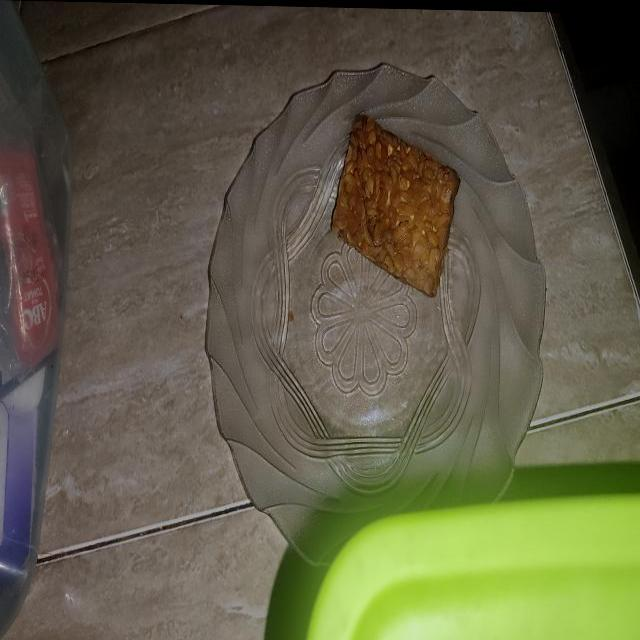tempe_goreng: (332, 116, 459, 296)
